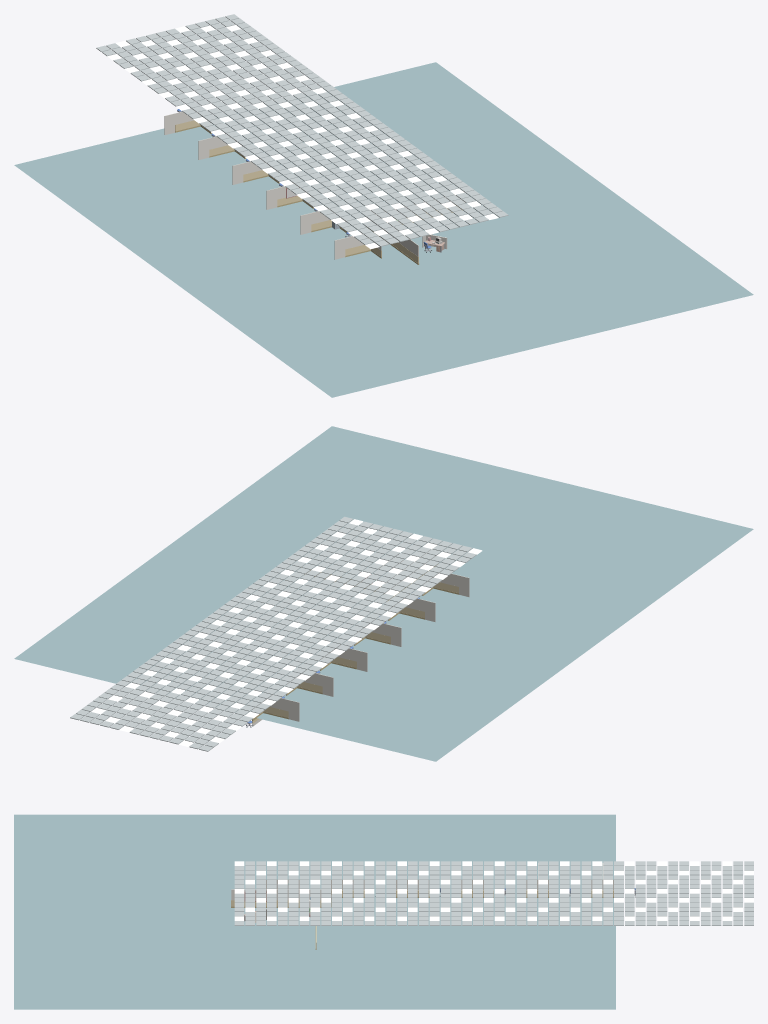
The picture shows the model from 3 angles, top to bottom: view 1: azimuth 30°, elevation 25°; view 2: azimuth 150°, elevation 25°; view 3: azimuth 270°, elevation 25°; orthographic projection. The views are drawn at different scales.
Visible parts, largest first — view 1: Plane, placas_techo-placas, placas_techo-placa luz; view 2: Plane, placas_techo-placas, placas_techo-placa luz; view 3: Plane, placas_techo-placas, placas_techo-placa luz.
Boxes of the visible parts, <box> form: Plane: <box>14,62,753,397</box>; placas_techo-placas: <box>96,14,508,246</box>; placas_techo-placa luz: <box>107,25,498,249</box>; Plane: <box>14,426,753,761</box>; placas_techo-placas: <box>70,516,476,751</box>; placas_techo-placa luz: <box>91,519,482,746</box>; Plane: <box>14,814,615,1009</box>; placas_techo-placas: <box>234,861,753,925</box>; placas_techo-placa luz: <box>234,861,753,920</box>.
Size of what is drawn, in the model's own units: 85.07 by 6.23 by 136.
